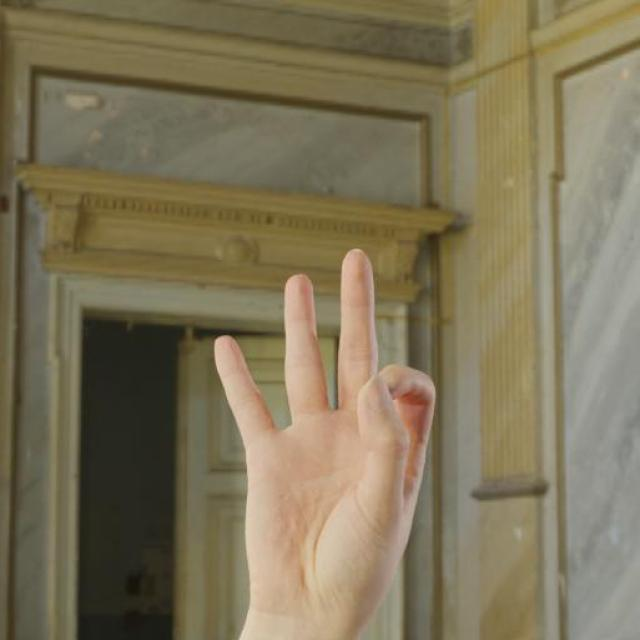F: (210, 244, 440, 617)
